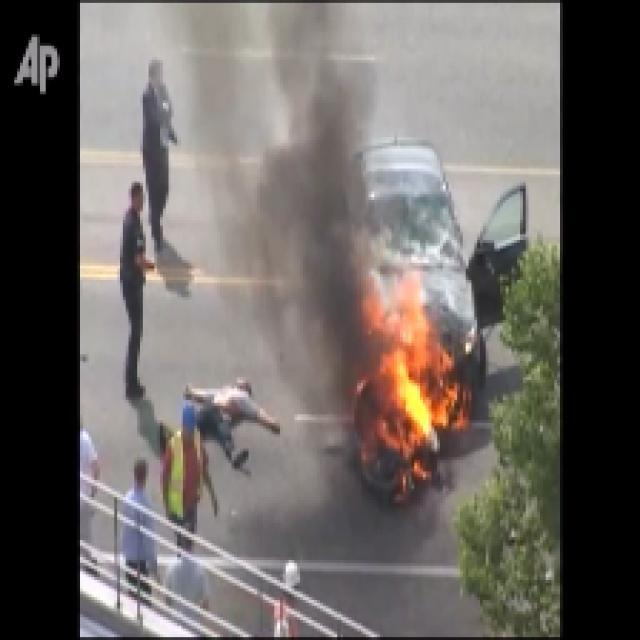Fire: (370, 298, 466, 497)
Smoke: (189, 6, 358, 381)
